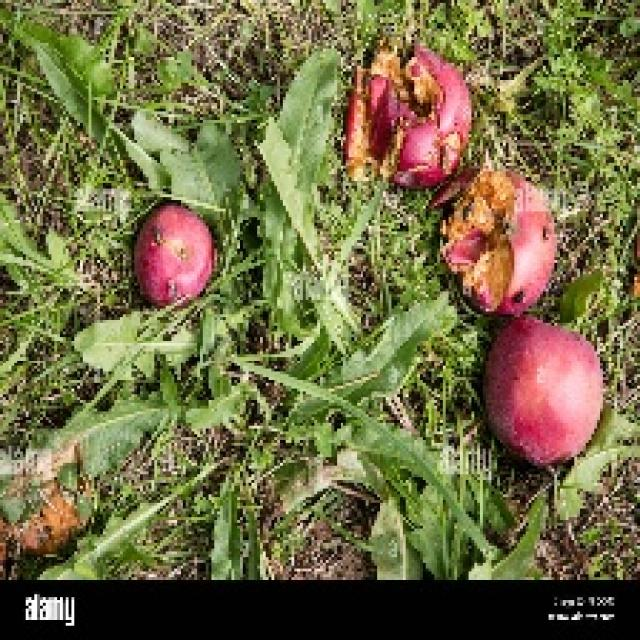100-_ripeness: (493, 325, 602, 452), (146, 210, 204, 302)
rotten_apple: (448, 170, 558, 311), (351, 53, 467, 185)
